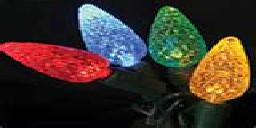LED: (1, 39, 104, 91), (74, 5, 147, 78), (187, 33, 248, 107), (147, 6, 209, 76)
